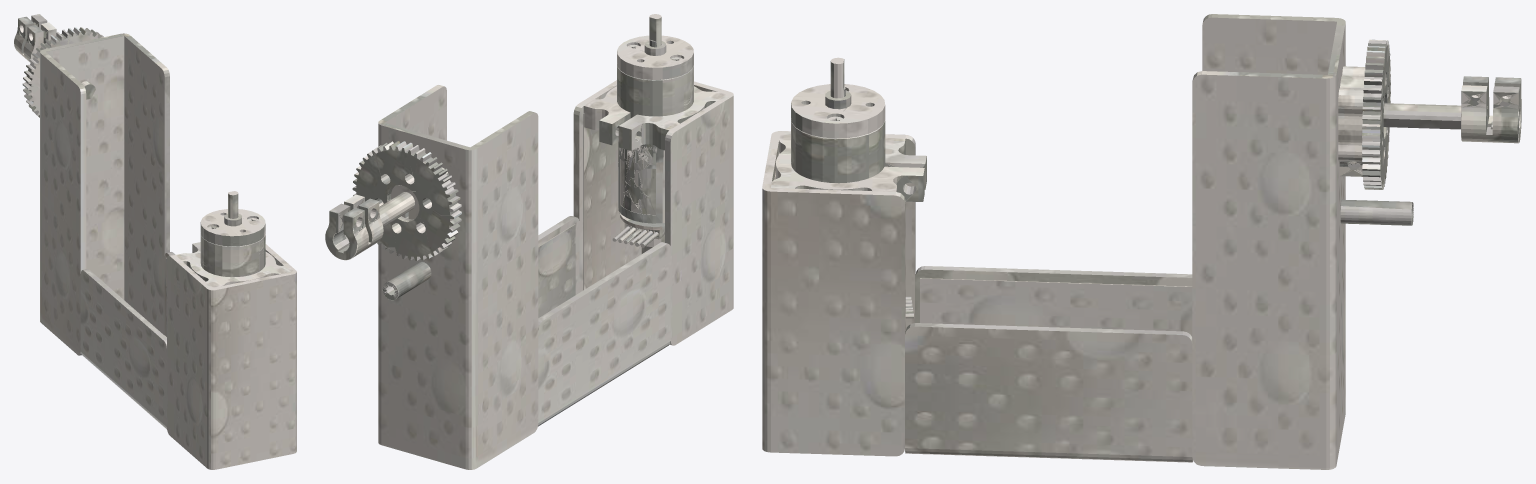
Rendered from corner_lf.dae.
3 renders of one model, left to right at view 1: azimuth 30°, elevation 25°; view 2: azimuth 150°, elevation 25°; view 3: azimuth 270°, elevation 25°, orthographic. The views are drawn at different scales.
Parts seen in each view (by area): view 1: corner_lf; view 2: corner_lf; view 3: corner_lf.
Boxes of the visible parts, x1=… form: corner_lf: x1=14, y1=14, x2=296, y2=469; corner_lf: x1=325, y1=14, x2=733, y2=469; corner_lf: x1=762, y1=14, x2=1521, y2=469.
Size of the model in its own units: 0.0508 by 0.201 by 0.1151.
1 material, 1 textured.
